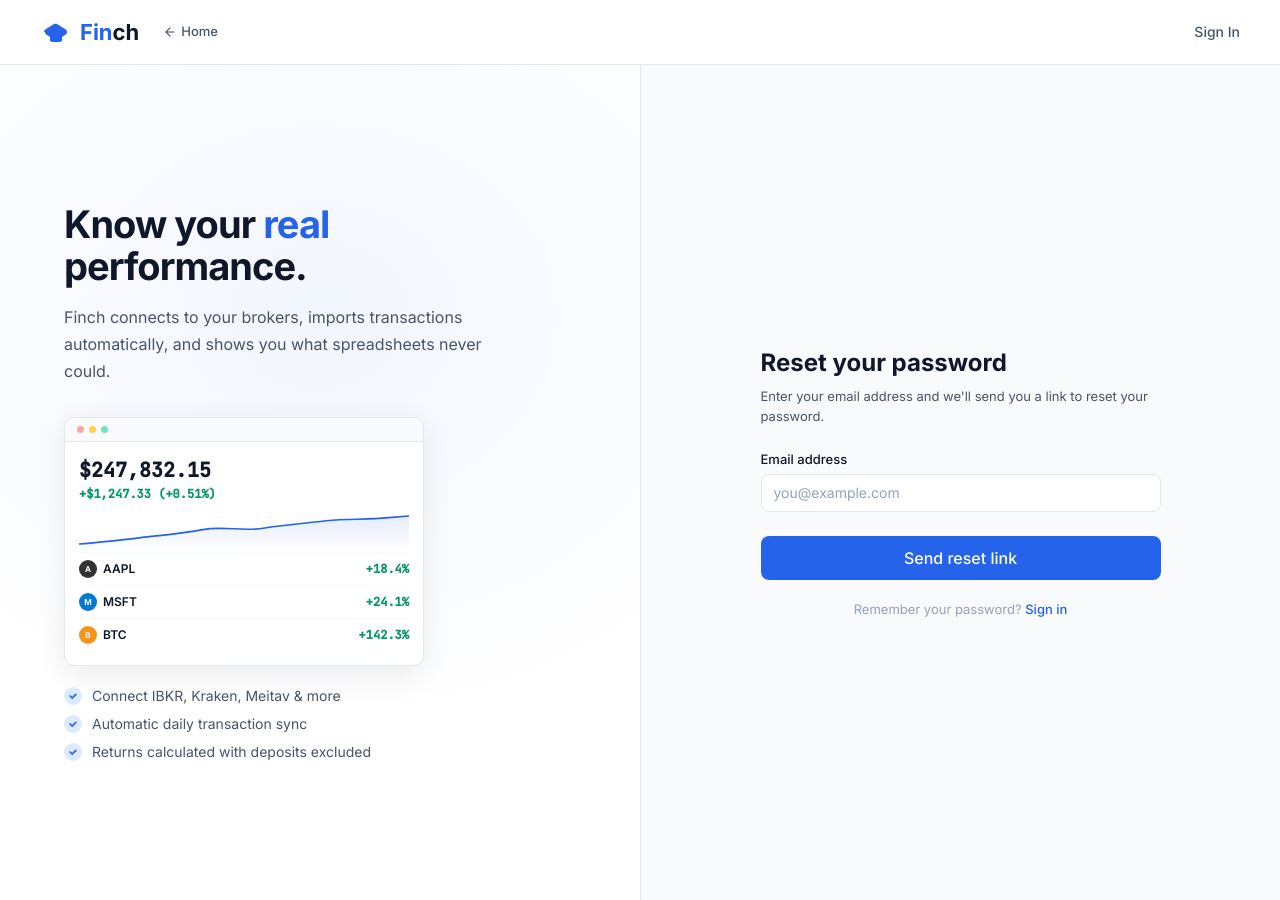
Test case: ForgotPassword › shows error on failure
Step 1. Type "test@example.com" into the field labelled "Email address" → (960, 492), box [760,474,1160,512]
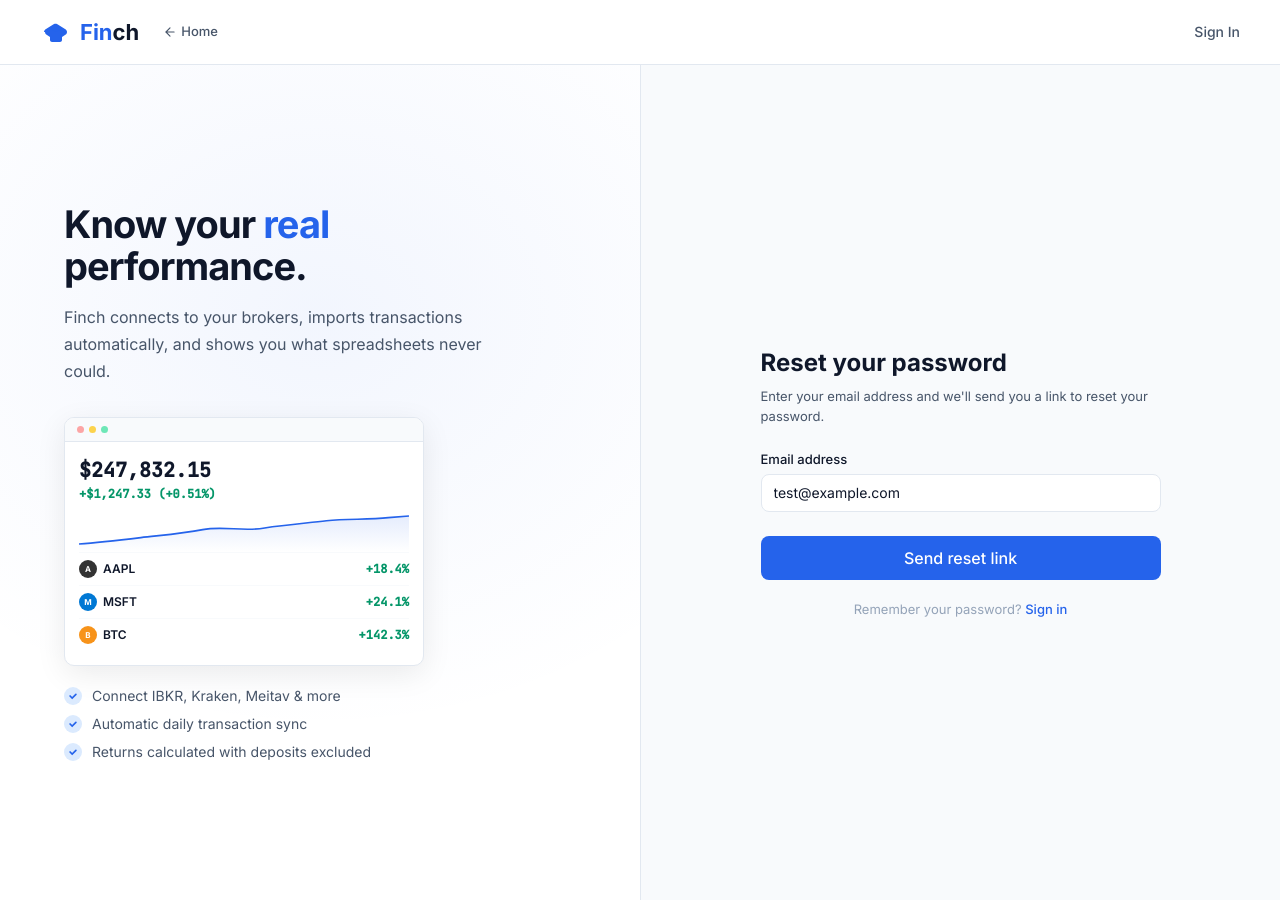
Step 2. Click the button "Send reset link" → (960, 558), box [760,536,1160,580]
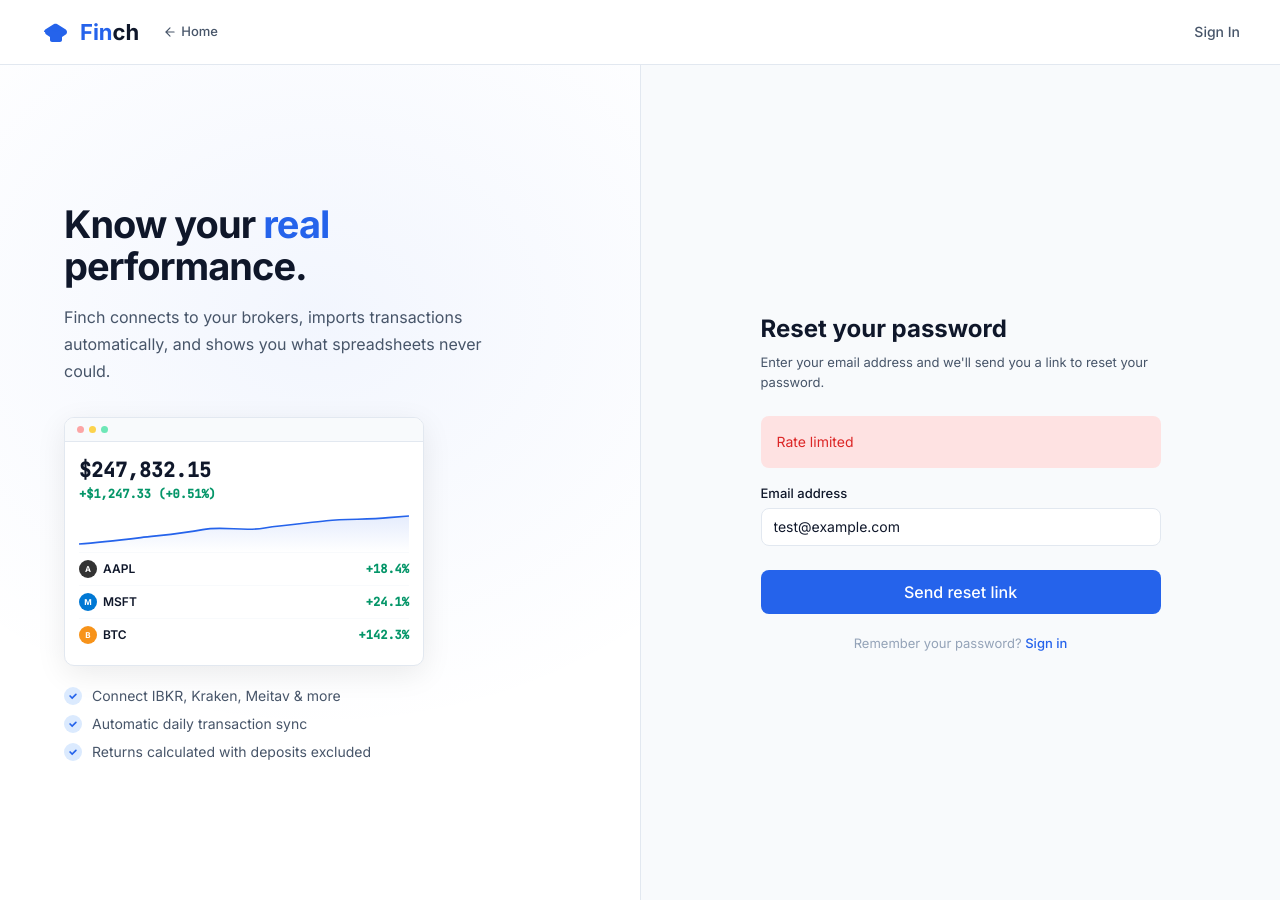
Check: the text "Rate limited" is shown, box [776,433,854,450]
